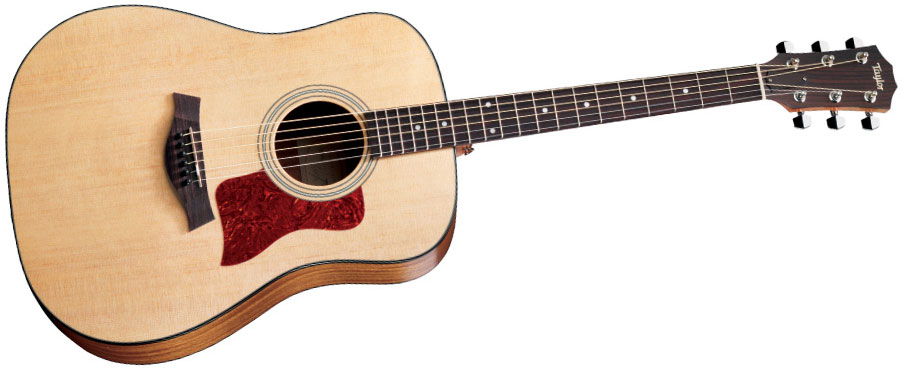guitar: (5, 1, 902, 365)
